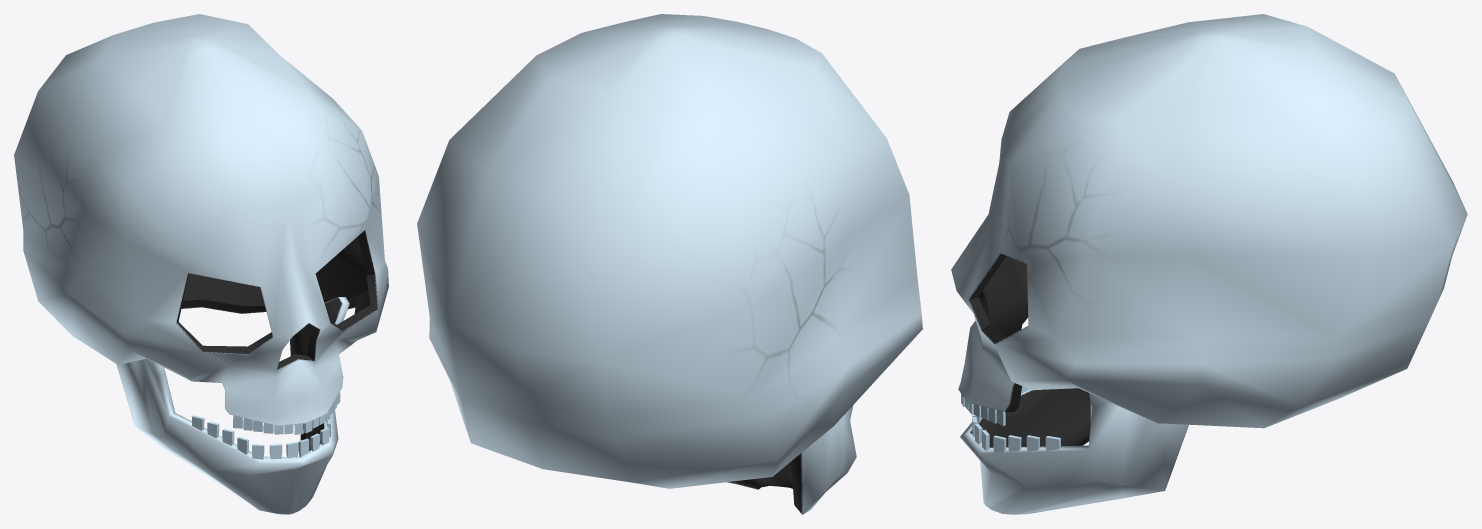
File: Skull.fbx
3 renders of one model, left to right at view 1: azimuth 30°, elevation 25°; view 2: azimuth 150°, elevation 25°; view 3: azimuth 270°, elevation 25°, orthographic. The views are drawn at different scales.
Visible parts, largest first — view 1: C_Skull; view 2: C_Skull; view 3: C_Skull.
Part boxes in pixels (bbox=[...]): C_Skull: bbox=[14, 14, 388, 514]; C_Skull: bbox=[417, 14, 922, 514]; C_Skull: bbox=[951, 14, 1467, 514].
Size of the model in its own units: 6.66 by 9.64 by 9.72.
